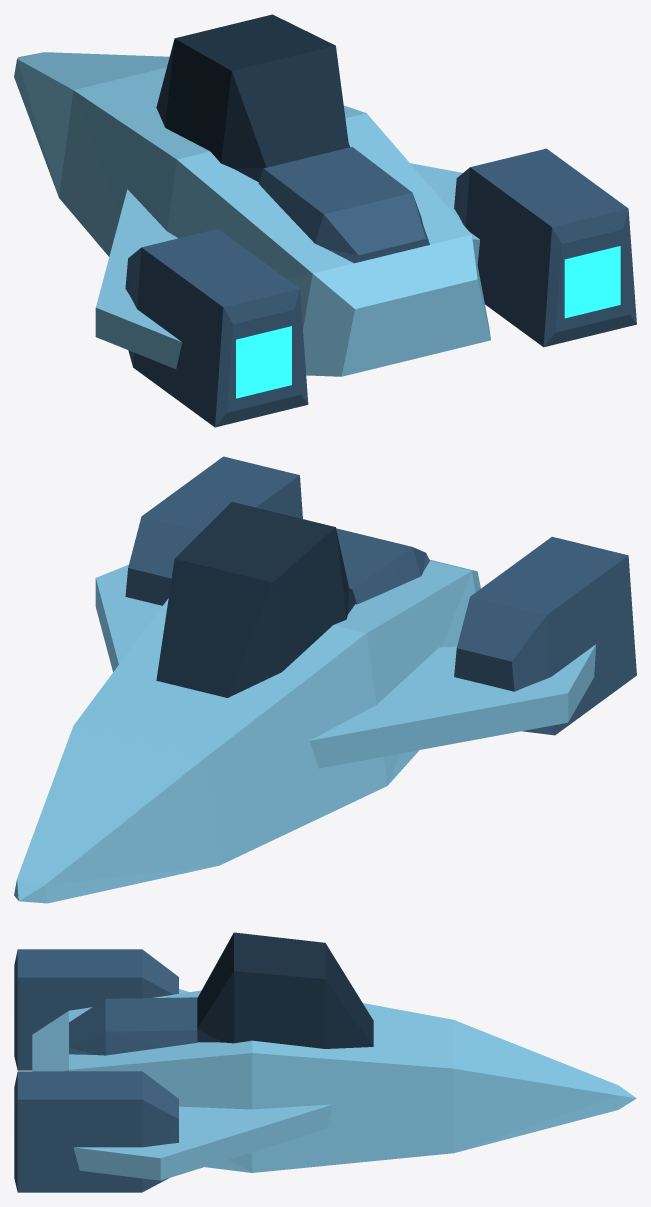
Rendered from player_ship.glb.
3 views of the same model, one above another, from view 1: azimuth 30°, elevation 25°; view 2: azimuth 150°, elevation 25°; view 3: azimuth 270°, elevation 25° (orthographic). The views are drawn at different scales.
Visible parts, largest first — view 1: Tapered_Hull, Engine_Pod_Right, Cockpit, Engine_Pod_Left, Rear_Deck, Swept_Fin_Left, Engine_Glow_Right, Engine_Glow_Left, Swept_Fin_Right; view 2: Tapered_Hull, Cockpit, Engine_Pod_Left, Swept_Fin_Left, Engine_Pod_Right, Rear_Deck, Swept_Fin_Right, Pointed_Nose; view 3: Tapered_Hull, Engine_Pod_Right, Cockpit, Engine_Pod_Left, Swept_Fin_Right, Rear_Deck.
Part boxes in pixels (bbox=[...]): Tapered_Hull: bbox=[14, 52, 490, 376]; Engine_Pod_Right: bbox=[454, 148, 636, 347]; Cockpit: bbox=[156, 14, 349, 182]; Engine_Pod_Left: bbox=[125, 229, 308, 427]; Rear_Deck: bbox=[258, 147, 429, 263]; Swept_Fin_Left: bbox=[95, 189, 182, 368]; Engine_Glow_Right: bbox=[564, 246, 620, 318]; Engine_Glow_Left: bbox=[236, 326, 291, 398]; Swept_Fin_Right: bbox=[410, 163, 479, 264]; Tapered_Hull: bbox=[17, 560, 480, 903]; Cockpit: bbox=[156, 502, 354, 697]; Engine_Pod_Left: bbox=[454, 536, 636, 735]; Swept_Fin_Left: bbox=[309, 644, 596, 768]; Engine_Pod_Right: bbox=[125, 456, 302, 605]; Rear_Deck: bbox=[336, 528, 429, 604]; Swept_Fin_Right: bbox=[95, 564, 162, 671]; Pointed_Nose: bbox=[14, 878, 47, 903]; Tapered_Hull: bbox=[32, 990, 618, 1172]; Engine_Pod_Right: bbox=[14, 1071, 178, 1192]; Cockpit: bbox=[197, 932, 373, 1048]; Engine_Pod_Left: bbox=[14, 949, 178, 1070]; Swept_Fin_Right: bbox=[73, 1104, 332, 1180]; Rear_Deck: bbox=[69, 997, 197, 1055].
Bounding box in the file's own units: 2.53 × 1.2 × 3.8.
